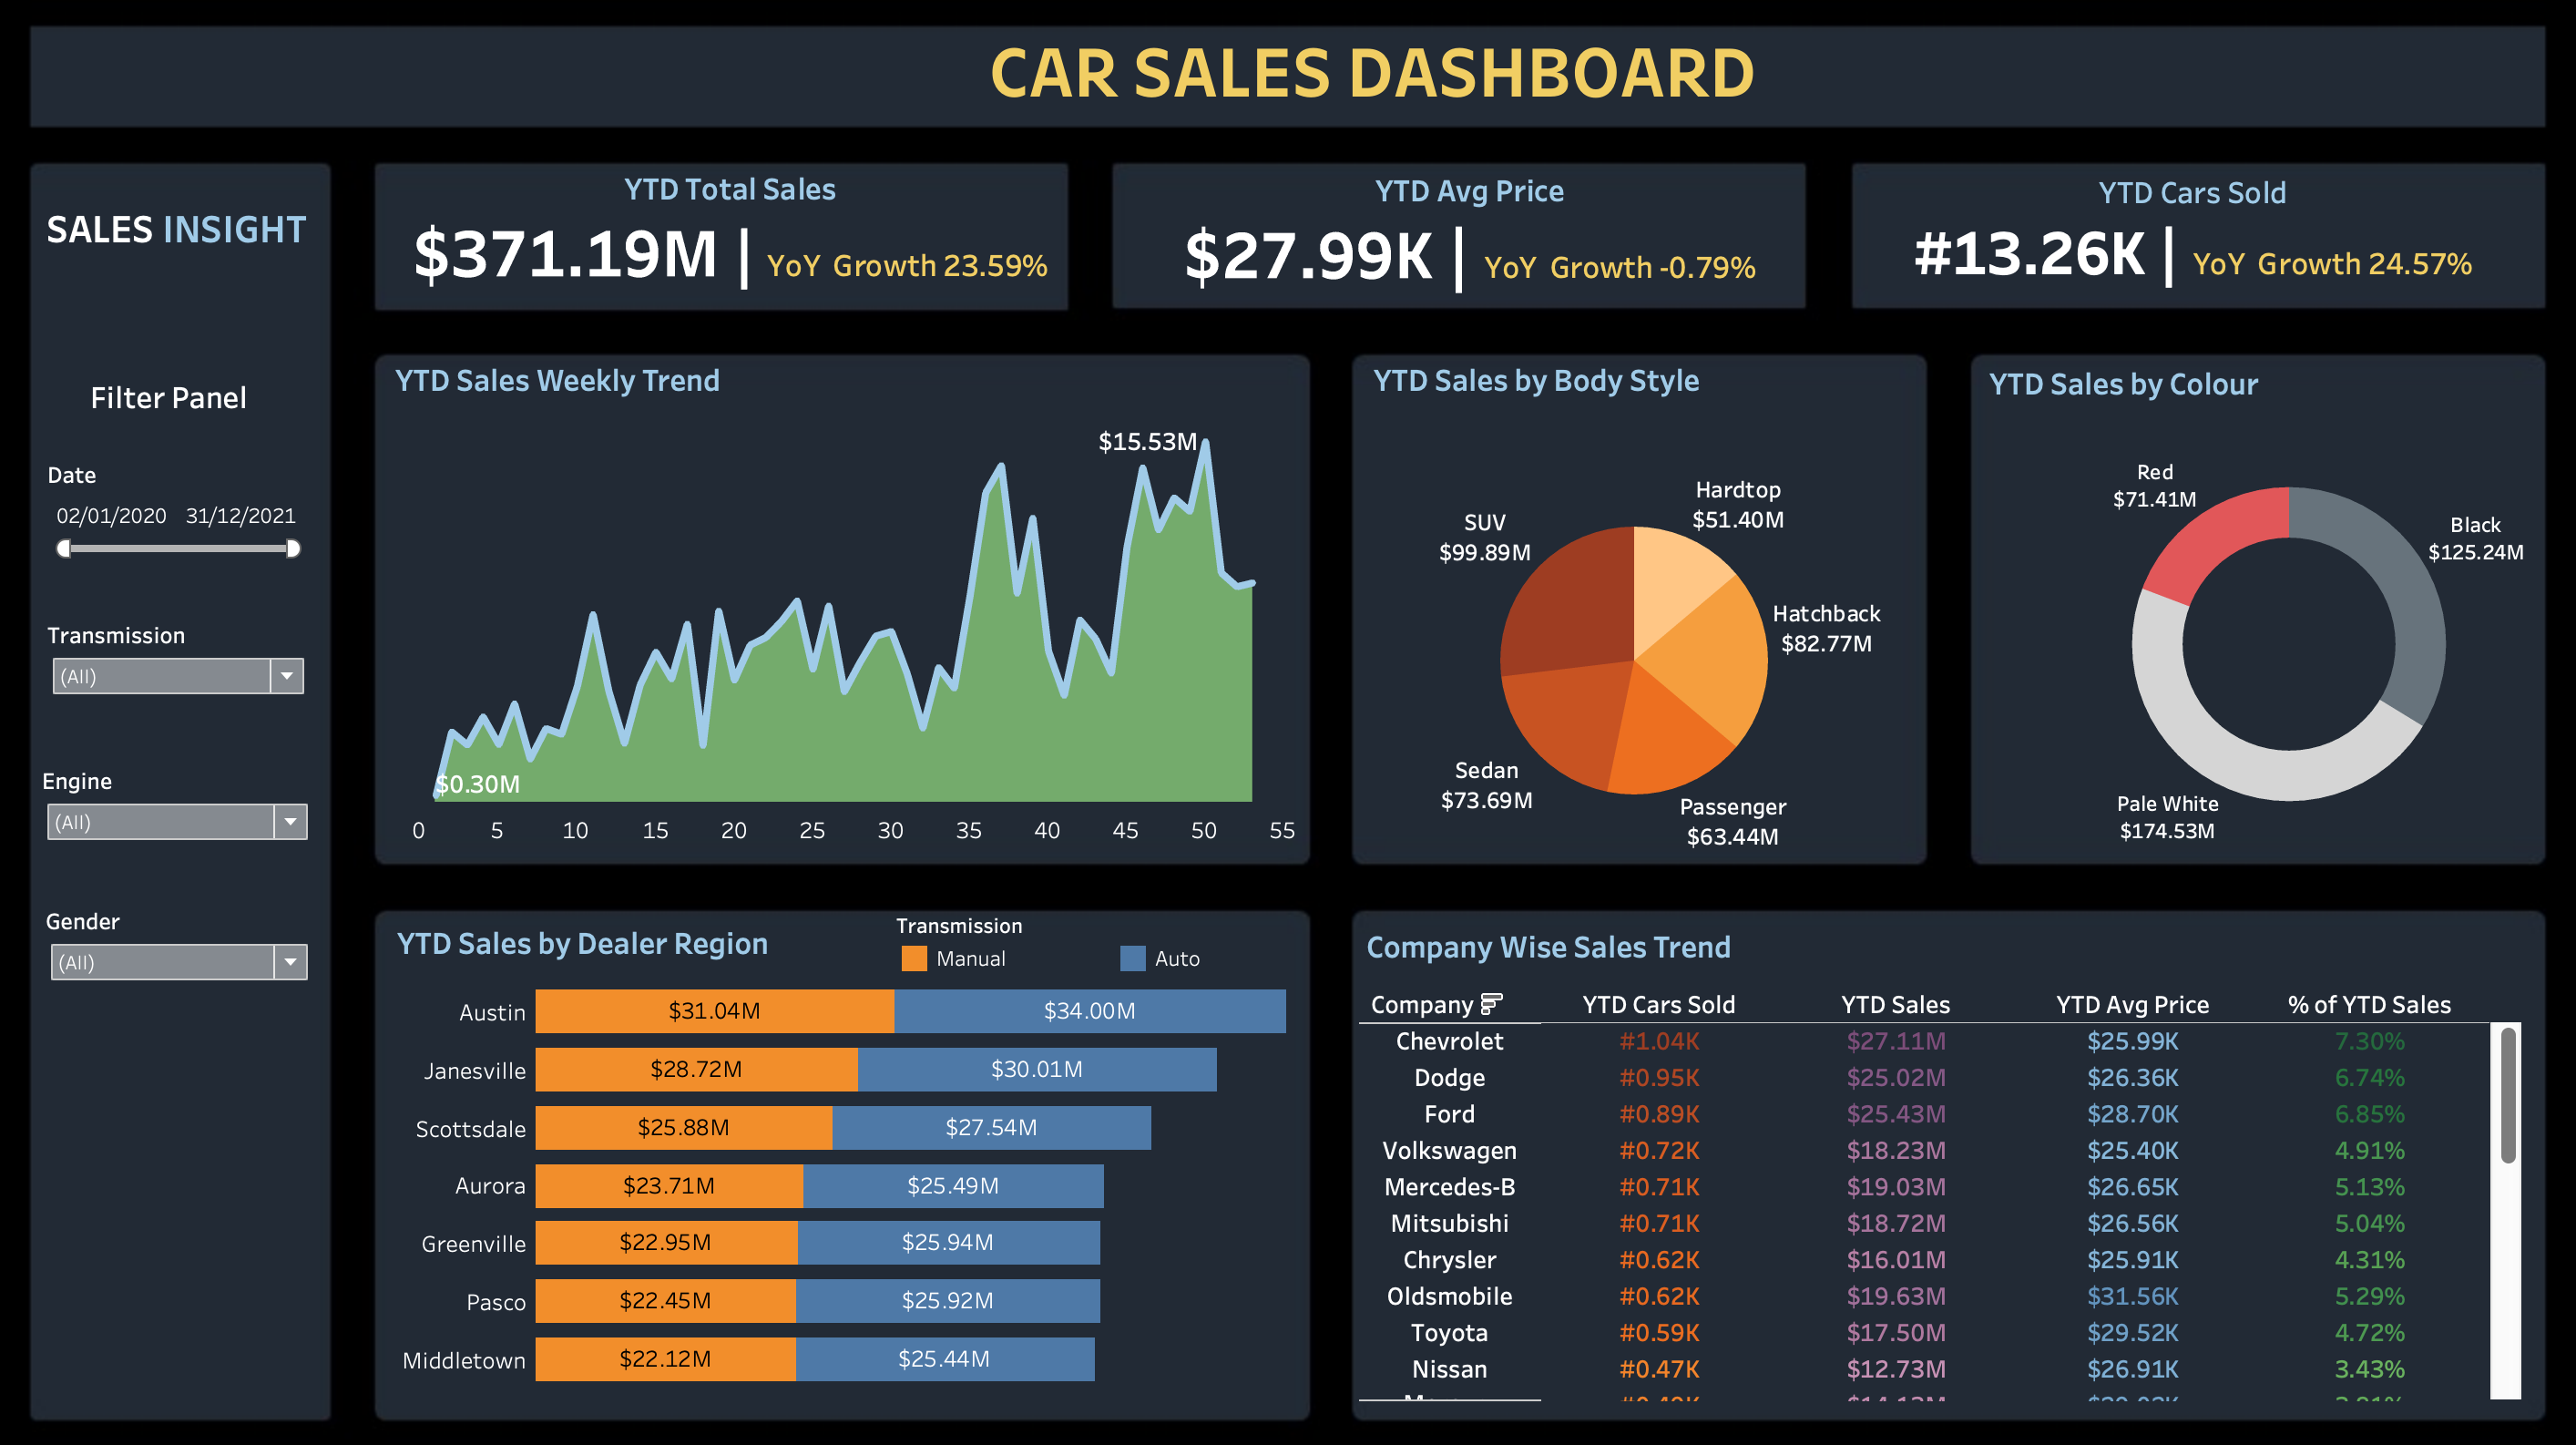

The page's visual inventory and layout, read from the dashboard file:
{"tool":"tableau","page":{"name":"Dashboard 1","canvas":[1000,1000],"units":"permille","ordinal":0},"visuals":[{"type":"image","param":"Image/Car Sales Background.jpg","box":[6.5,12.2,987,975.5]},{"type":"text","box":[367.8,30.6,328.7,73.4]},{"type":"worksheet","title":"YTD Avg Price","mark":"Automatic","box":[402.8,108.6,332.8,134.6]},{"type":"worksheet","title":"YTD Total Sales","mark":"Automatic","box":[152.2,122.3,270.1,102.5]},{"type":"text","box":[25.2,140.7,122.2,62.7]},{"type":"worksheet","title":"YTD Sales Weekly Trend","mark":"Automatic","rows":["Calculation_227642921648541705","Calculation_227642921648541705"],"cols":["Date"],"box":[157,253.8,347.4,333.3]},{"type":"worksheet","title":"YTD Sales by Body Style","mark":"Pie","box":[529.7,253.8,204.2,363.9]},{"type":"worksheet","title":"YTD Sales by Colour","mark":"Pie","rows":["Calculation_227642921641996289","Calculation_227642921642029060"],"box":[764.9,256.9,234.3,337.9]},{"type":"text","box":[41.5,261.5,81.4,45.9]},{"type":"filter","title":"YTD Sales Weekly Trend","param":"[federated.1utwcqn163py0m120opbc19612t3].[none:Date:qk]","box":[26.9,325.7,100.2,93.3]},{"type":"filter","title":"YTD Sales Weekly Trend","param":"[federated.1utwcqn163py0m120opbc19612t3].[none:Transmission:nk]","box":[26.9,431.2,100.2,123.9]},{"type":"filter","title":"YTD Sales Weekly Trend","param":"[federated.1utwcqn163py0m120opbc19612t3].[none:Engine:nk]","box":[25.2,527.5,103.4,123.9]},{"type":"filter","title":"YTD Sales Weekly Trend","param":"[federated.1utwcqn163py0m120opbc19612t3].[none:Gender:nk]","box":[26.1,620.8,101.8,87.2]},{"type":"legend","title":"YTD Sales by Dealer Region","param":"[federated.1utwcqn163py0m120opbc19612t3].[none:Transmission:nk]","box":[350.7,623.9,168.4,50.5]},{"type":"worksheet","title":"YTD Sales by Dealer Region","mark":"Bar","rows":["Dealer_Region"],"cols":["Price ($)"],"box":[157.8,626.9,356.4,313.5]},{"type":"worksheet","title":"Company Wise Sales Trend","mark":"Automatic","rows":["Company"],"box":[526.9,628.4,443,319.6]}]}

Visuals, with their boxes on the dashboard's canvas, which has no fixed pixel size, in thousandths of its width and height (x1, y1, x2, y2). These are canvas units, not pixel positions in the 2576x1445 screenshot, which may show the page scaled, cropped or inside an application window:
image: [x1=6, y1=12, x2=994, y2=988]
text: [x1=368, y1=31, x2=696, y2=104]
"YTD Avg Price" worksheet: [x1=403, y1=109, x2=736, y2=243]
"YTD Total Sales" worksheet: [x1=152, y1=122, x2=422, y2=225]
text: [x1=25, y1=141, x2=147, y2=203]
"YTD Sales Weekly Trend" worksheet: [x1=157, y1=254, x2=504, y2=587]
"YTD Sales by Body Style" worksheet (Pie marks): [x1=530, y1=254, x2=734, y2=618]
"YTD Sales by Colour" worksheet (Pie marks): [x1=765, y1=257, x2=999, y2=595]
text: [x1=42, y1=262, x2=123, y2=307]
"YTD Sales Weekly Trend" filter: [x1=27, y1=326, x2=127, y2=419]
"YTD Sales Weekly Trend" filter: [x1=27, y1=431, x2=127, y2=555]
"YTD Sales Weekly Trend" filter: [x1=25, y1=528, x2=129, y2=651]
"YTD Sales Weekly Trend" filter: [x1=26, y1=621, x2=128, y2=708]
"YTD Sales by Dealer Region" legend: [x1=351, y1=624, x2=519, y2=674]
"YTD Sales by Dealer Region" worksheet (Bar marks): [x1=158, y1=627, x2=514, y2=940]
"Company Wise Sales Trend" worksheet: [x1=527, y1=628, x2=970, y2=948]
